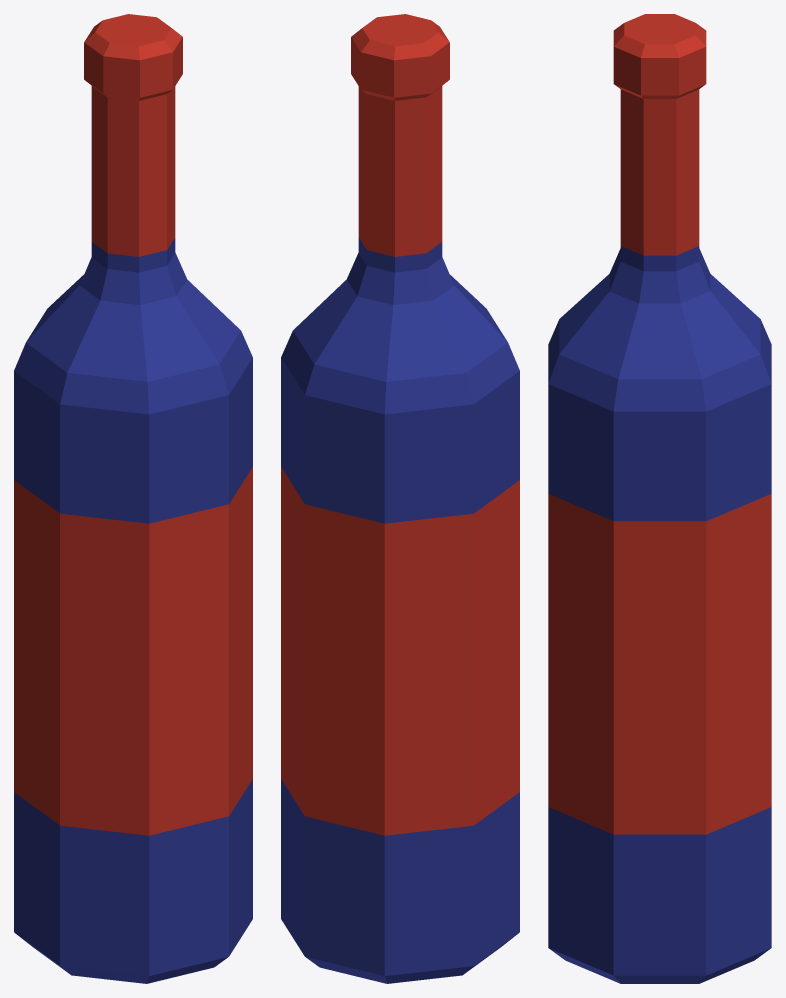
File: Wine Bottle.fbx
3 views of the same model, side by side, from view 1: azimuth 30°, elevation 25°; view 2: azimuth 150°, elevation 25°; view 3: azimuth 270°, elevation 25° (orthographic).
Parts seen in each view (by area): view 1: Label, Top, Bottom, Neck; view 2: Label, Top, Bottom, Neck; view 3: Label, Top, Bottom, Neck.
Boxes of the visible parts, left/top/right/bottom form: Label: left=14, top=467, right=252, bottom=835; Top: left=14, top=237, right=252, bottom=523; Bottom: left=14, top=779, right=252, bottom=983; Neck: left=84, top=14, right=182, bottom=256; Label: left=281, top=467, right=519, bottom=835; Top: left=281, top=237, right=519, bottom=523; Bottom: left=281, top=779, right=519, bottom=983; Neck: left=351, top=14, right=449, bottom=256; Label: left=548, top=494, right=771, bottom=834; Top: left=548, top=246, right=771, bottom=521; Bottom: left=548, top=807, right=771, bottom=983; Neck: left=613, top=14, right=706, bottom=255.
Size of the model in its own units: 64.67 by 292 by 64.67.
